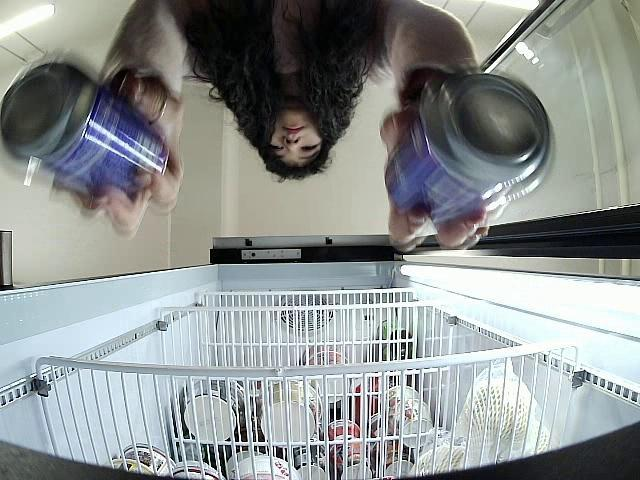14_welchsGrape: (384, 74, 552, 225), (0, 60, 171, 203)
